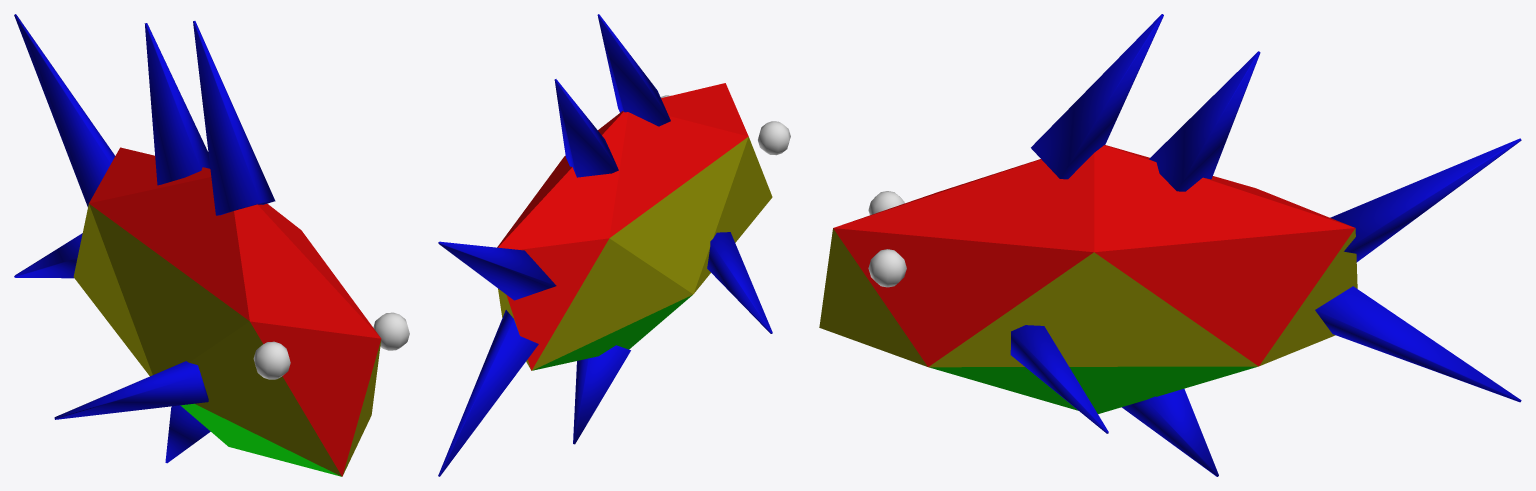
The model's file is fish_crystalfish.glb.
3 renders of one model, left to right at view 1: azimuth 30°, elevation 25°; view 2: azimuth 150°, elevation 25°; view 3: azimuth 270°, elevation 25°, orthographic. The views are drawn at different scales.
Parts seen in each view (by area): view 1: Body, Eye; view 2: Body, Eye; view 3: Body, Eye.
Boxes of the visible parts, x1,y1,x2,y2 form: Body: [14, 14, 381, 476]; Eye: [253, 312, 409, 379]; Body: [438, 14, 772, 476]; Eye: [660, 95, 790, 155]; Body: [819, 14, 1521, 476]; Eye: [868, 191, 906, 287].
Size of the model in its own units: 0.5624 by 0.7422 by 1.02.
